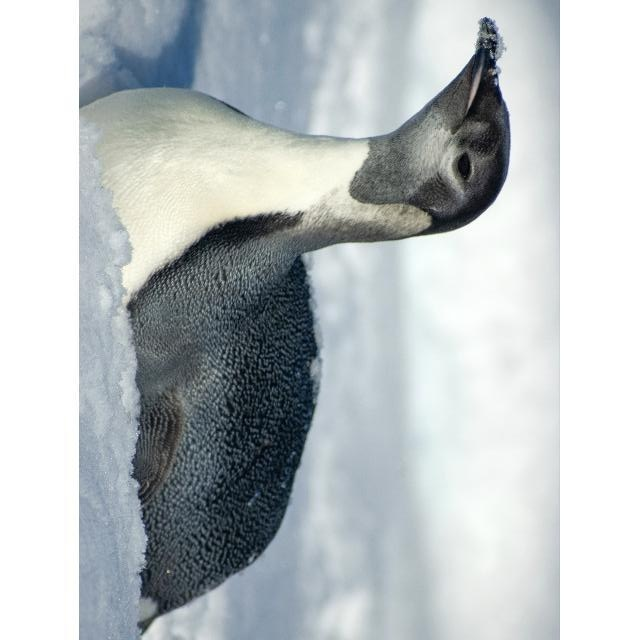penguin: (83, 13, 512, 635)
